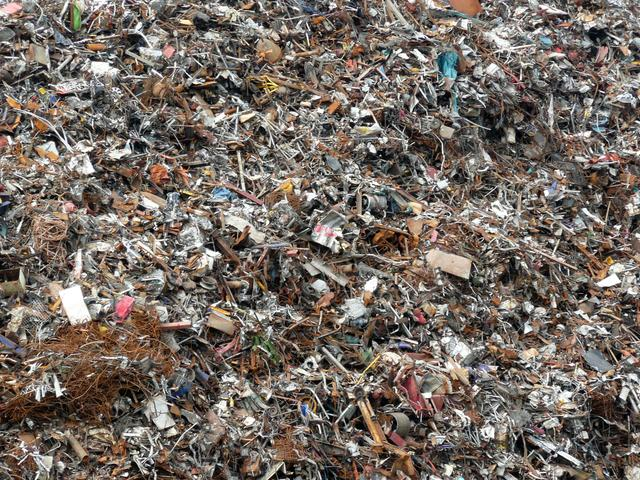garbage: (16, 14, 618, 441)
